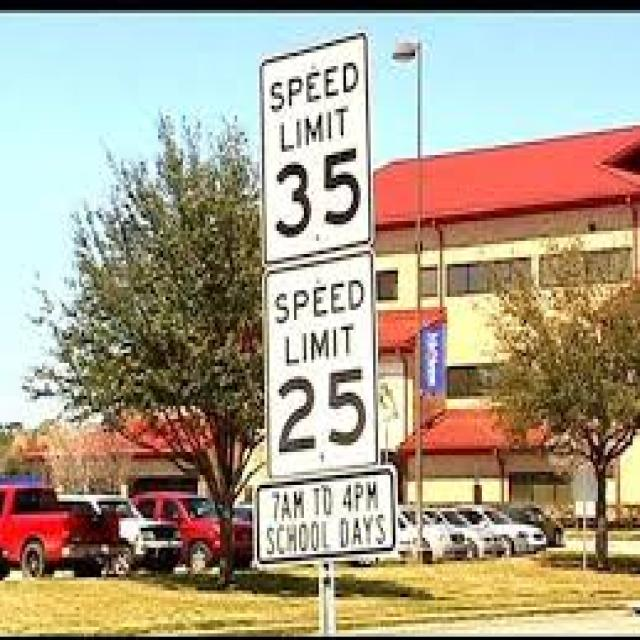speedLimit25: (258, 264, 384, 469)
speedLimit35: (257, 56, 381, 247)
